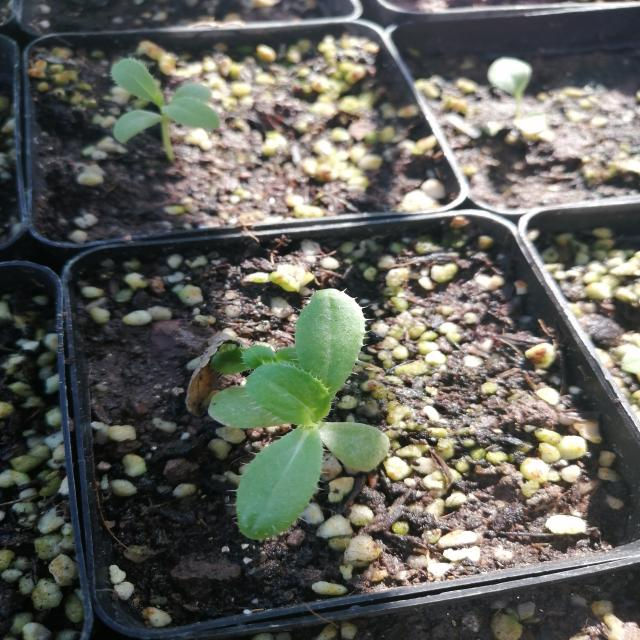field_thistle: (158, 264, 436, 526), (97, 64, 256, 161)
